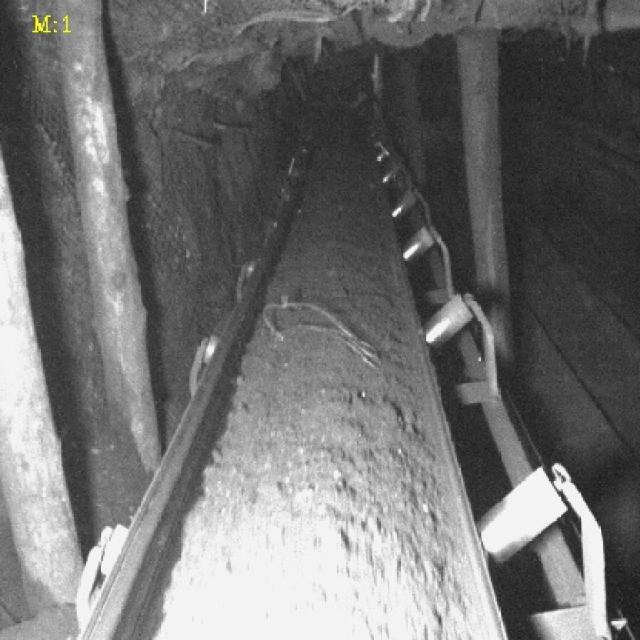bolt: (260, 297, 382, 368)
